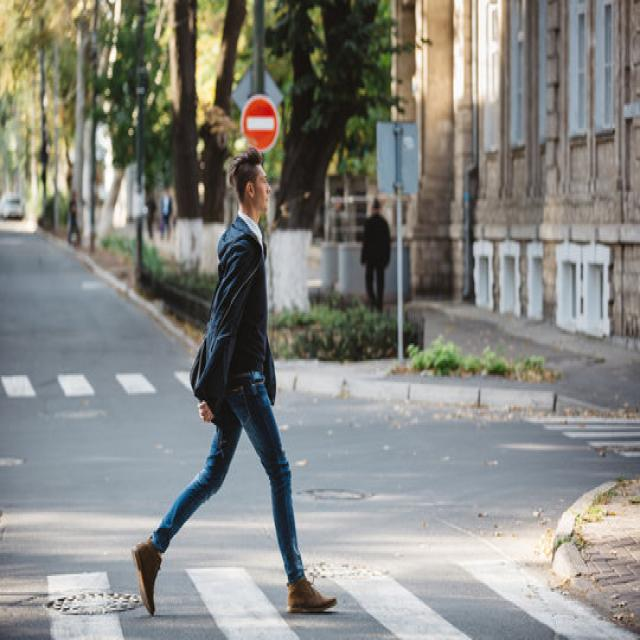Pedestrian crosswalk: (29, 544, 640, 638), (0, 367, 197, 404)
Person: (119, 144, 354, 626)
